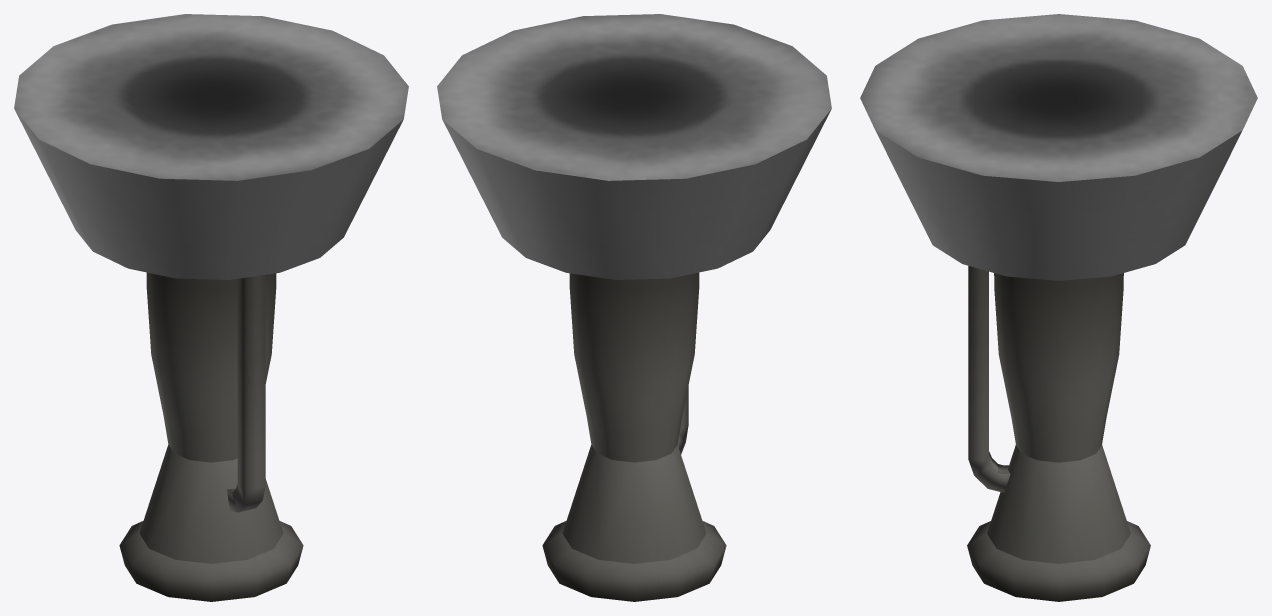
File: lr101standalone.dae
3 renders of one model, left to right at view 1: azimuth 30°, elevation 25°; view 2: azimuth 150°, elevation 25°; view 3: azimuth 270°, elevation 25°, orthographic.
Parts seen in each view (by area): view 1: pCylinder73, thrustTransform, PipeThingy; view 2: pCylinder73, thrustTransform; view 3: pCylinder73, thrustTransform, PipeThingy.
Boxes of the visible parts, x1,y1,x2,y2 form: pCylinder73: (14, 14, 408, 279); thrustTransform: (119, 272, 303, 601); PipeThingy: (227, 275, 265, 512); pCylinder73: (437, 14, 831, 279); thrustTransform: (542, 272, 726, 601); pCylinder73: (860, 14, 1257, 280); thrustTransform: (967, 273, 1150, 601); PipeThingy: (968, 266, 1010, 492).
Bounding box in the file's own units: 0.4064 × 0.5267 × 0.4064.
